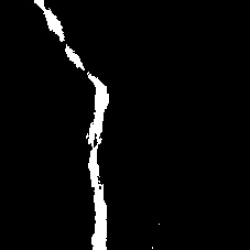crack: (32, 2, 113, 247)
